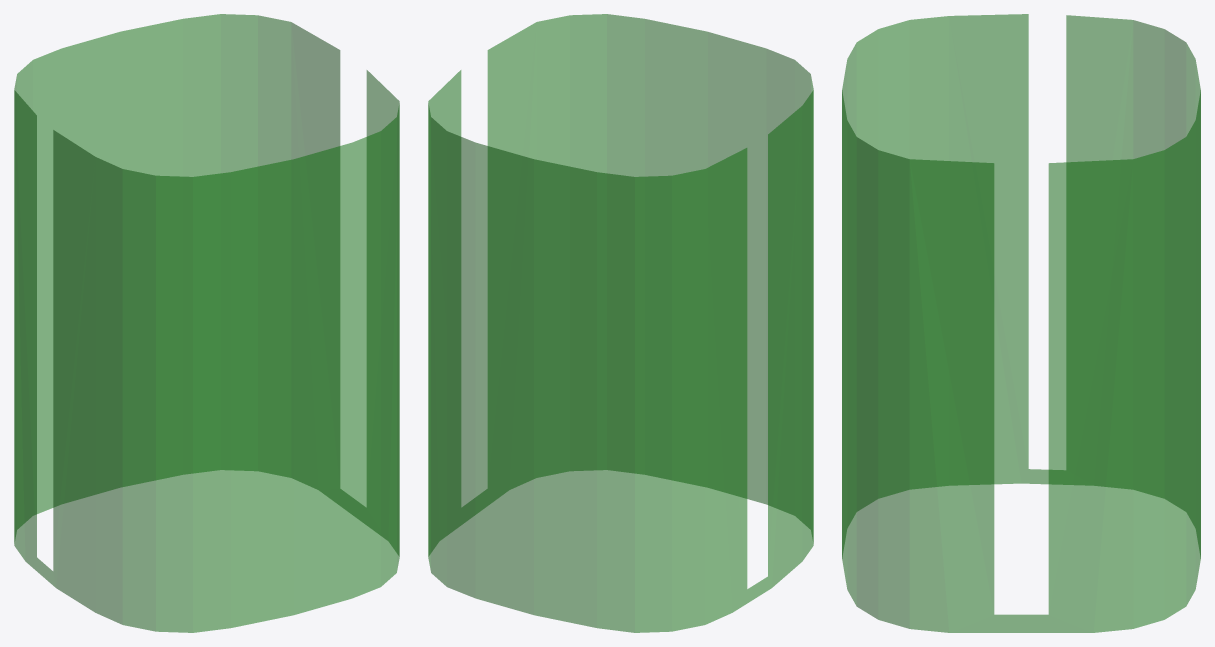
The model's file is wall2.obj.
The picture shows the model from 3 angles, left to right: view 1: azimuth 30°, elevation 25°; view 2: azimuth 150°, elevation 25°; view 3: azimuth 270°, elevation 25°; orthographic projection. The views are drawn at different scales.
Bounding box in the file's own units: 91.53 × 134 × 92.86.
